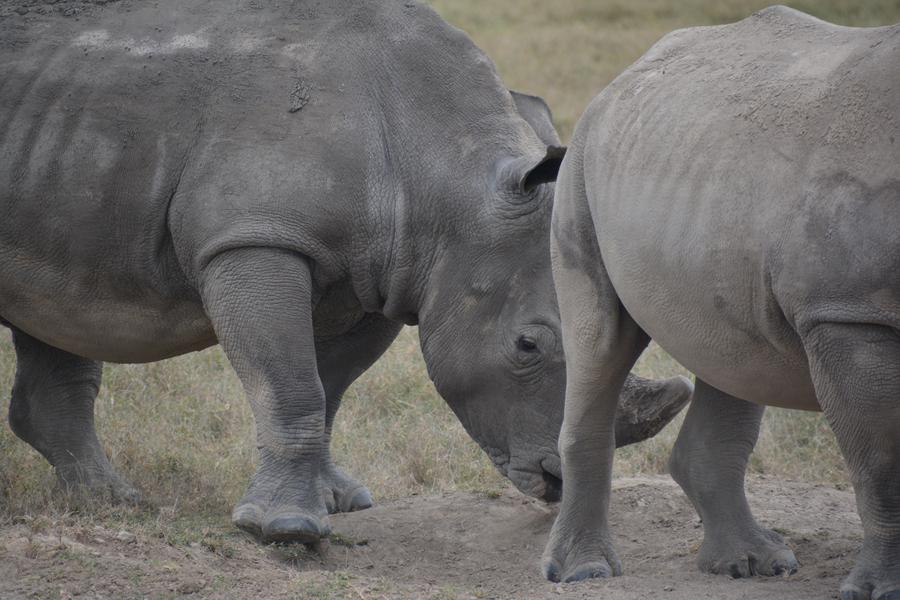rhino: (5, 16, 548, 530), (560, 22, 864, 545)
